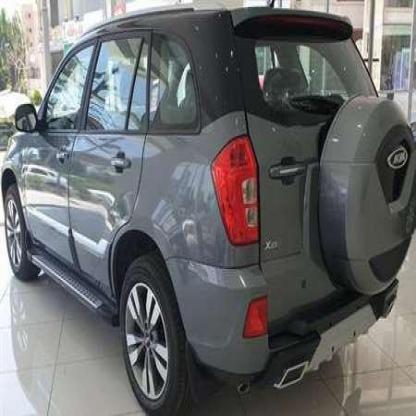Car: (0, 3, 413, 416)
